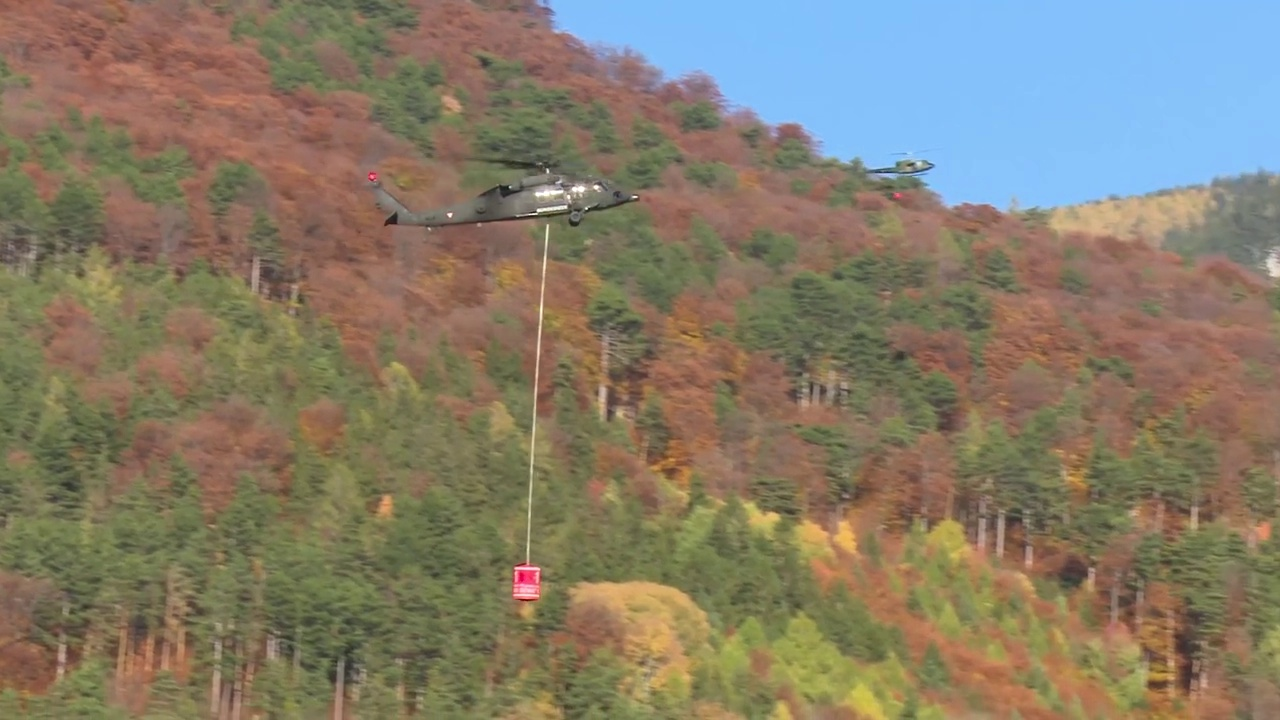heli: (365, 158, 640, 230), (860, 150, 935, 177)
